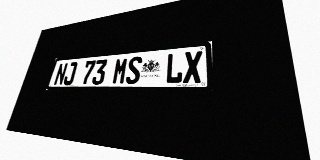3: (91, 59, 108, 85)
7: (80, 60, 96, 85)
J: (62, 62, 78, 85)
L: (165, 52, 184, 84)
M: (111, 57, 129, 84)
N: (53, 63, 68, 85)
S: (125, 56, 143, 84)
X: (183, 51, 202, 83)
